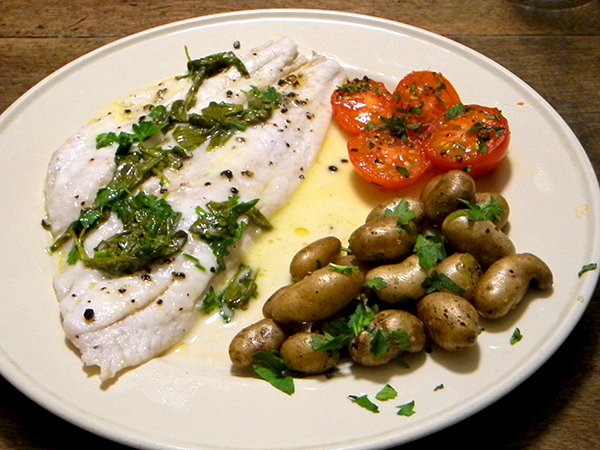boiled potatoes: (306, 226, 501, 344)
fried egg: (47, 199, 213, 374)
